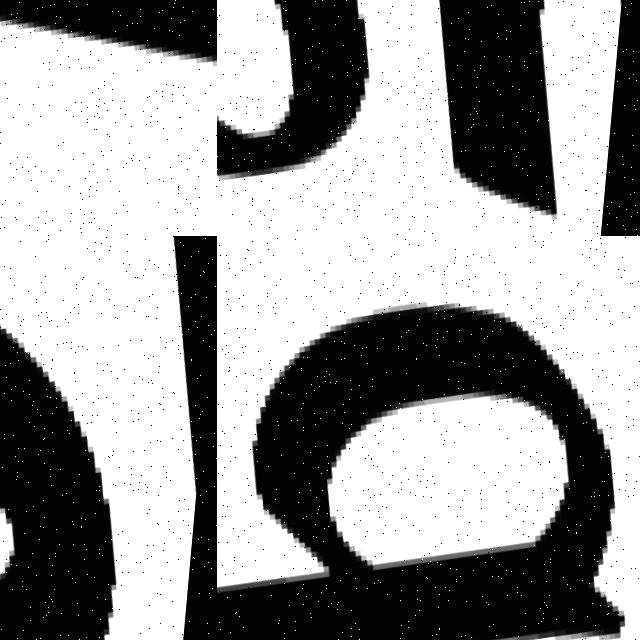5: (217, 0, 615, 236)
C: (0, 236, 186, 640)
I: (0, 0, 217, 223)
Q: (217, 253, 640, 640)
